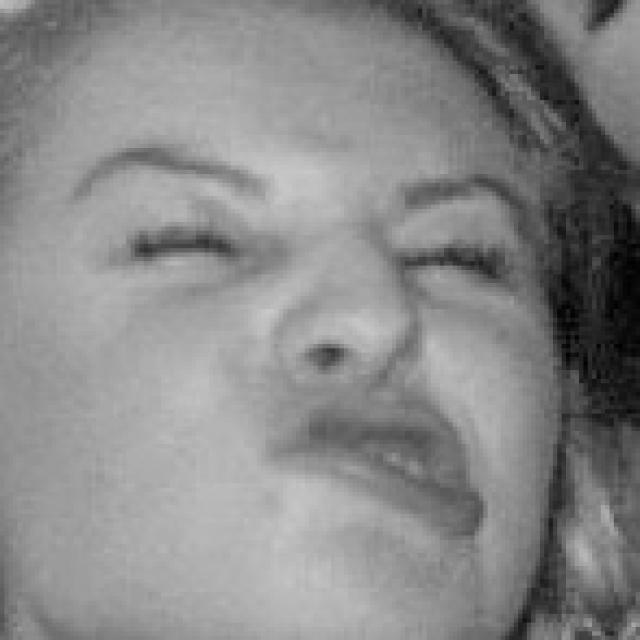real: (23, 1, 528, 640), (110, 174, 532, 328)
